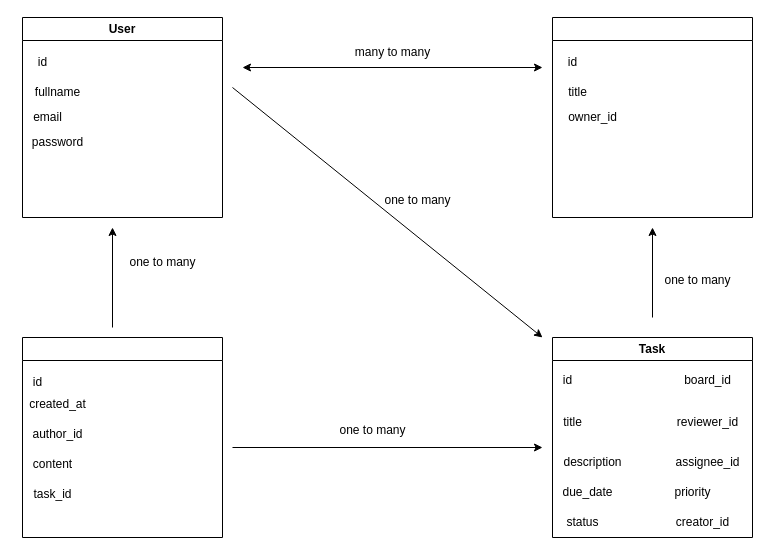
Some shapes in this 770 by 555 pixel diagram are drawn without their labels. Here are the shapes that lost their labels. From the top down, the box of each, then its label:
(552, 16, 752, 218): Board
(22, 336, 222, 538): Comment
